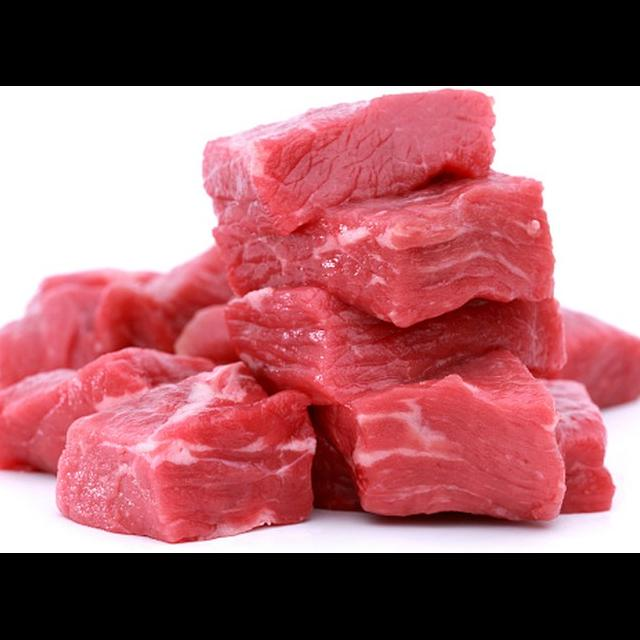beef: (215, 179, 640, 322), (53, 351, 335, 537), (330, 347, 580, 539), (168, 91, 507, 220), (217, 293, 613, 382), (0, 237, 248, 373), (0, 345, 236, 479), (519, 285, 640, 416)
